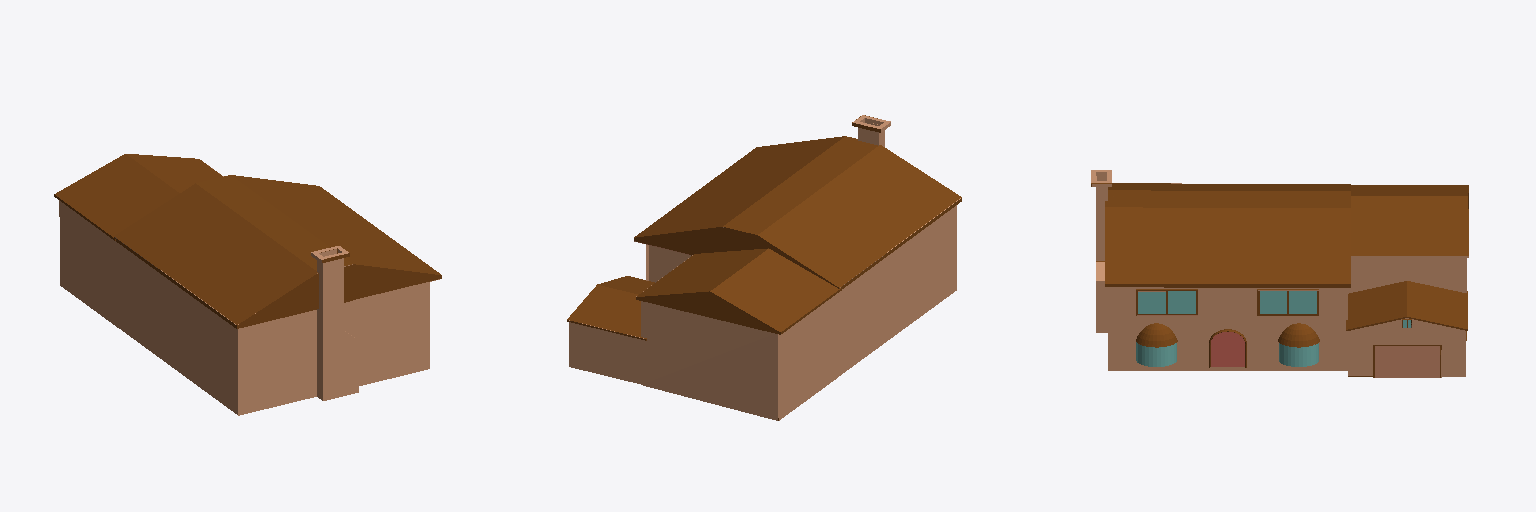
3 views of the same model, side by side, from view 1: azimuth 30°, elevation 25°; view 2: azimuth 150°, elevation 25°; view 3: azimuth 270°, elevation 25° (orthographic).
Visible parts, largest first — view 1: Cube.032_Cube.001; view 2: Cube.032_Cube.001; view 3: Cube.032_Cube.001.
Part boxes in pixels (x1,y1,x2,y2): Cube.032_Cube.001: (54, 154, 441, 415); Cube.032_Cube.001: (567, 115, 961, 420); Cube.032_Cube.001: (1091, 170, 1468, 377).
Size of the model in its own units: 149 by 95.9 by 228.
1 materials, 1 textured.